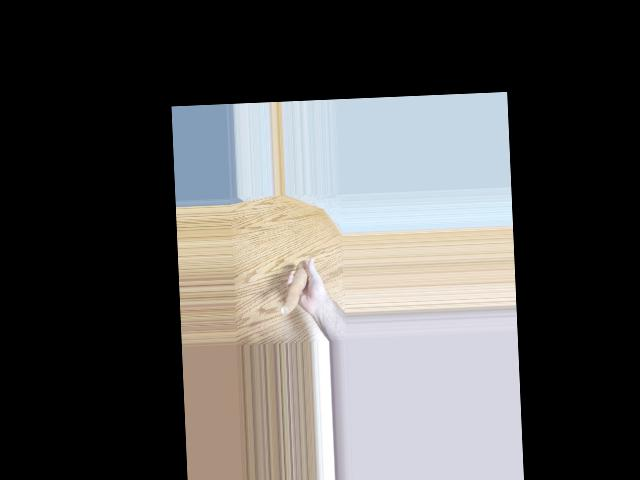sweet_potato: (278, 262, 310, 317)
